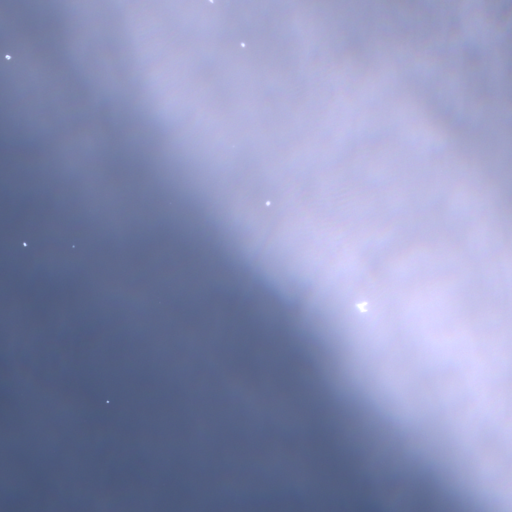Iceberg: (357, 302, 367, 311), (5, 55, 10, 59), (266, 201, 270, 205), (23, 242, 27, 246), (241, 43, 244, 46), (106, 400, 109, 403), (209, 0, 213, 2), (72, 245, 74, 247)
